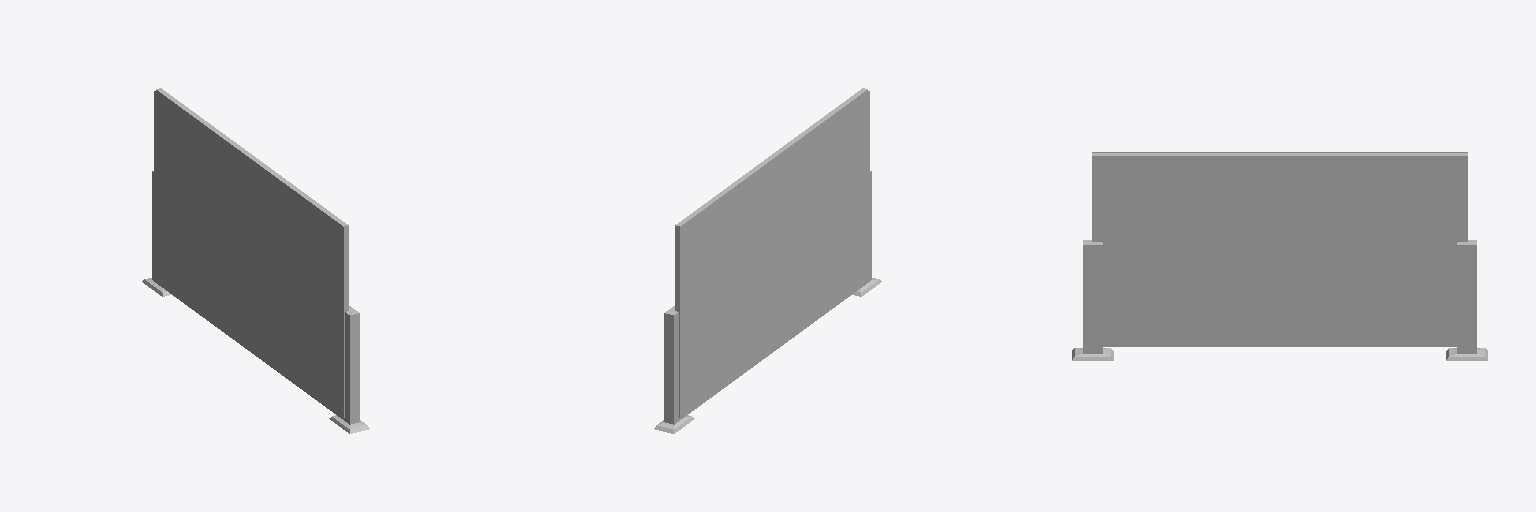
Rendered from cinema.obj.
3 views of the same model, side by side, from view 1: azimuth 30°, elevation 25°; view 2: azimuth 150°, elevation 25°; view 3: azimuth 270°, elevation 25° (orthographic).
Visible parts, largest first — view 1: Plane001, Box002; view 2: Plane001, Box002; view 3: Box002.
Boxes of the visible parts, x1=… form: Plane001: x1=154, y1=91, x2=340, y2=417; Box002: x1=142, y1=88, x2=369, y2=433; Plane001: x1=683, y1=91, x2=869, y2=417; Box002: x1=654, y1=88, x2=881, y2=433; Box002: x1=1072, y1=153, x2=1487, y2=360.
Bounding box in the file's own units: 1 × 9.36 × 17.73.